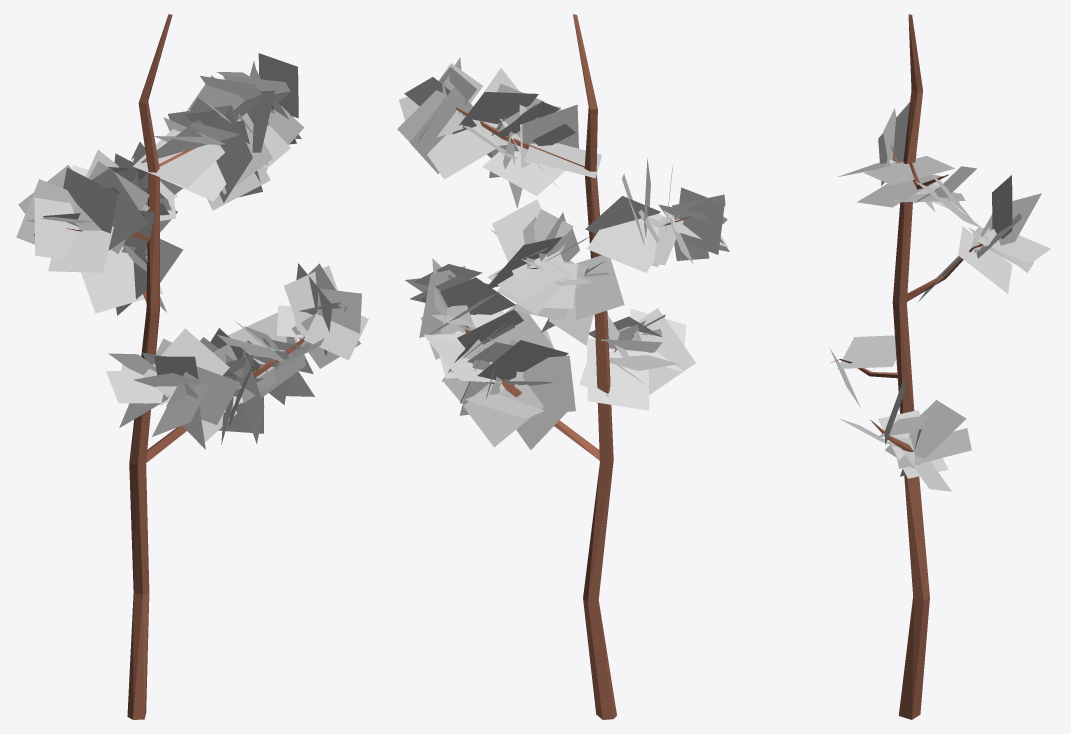
The model's file is bush-stick-test.glb.
3 views of the same model, side by side, from view 1: azimuth 30°, elevation 25°; view 2: azimuth 150°, elevation 25°; view 3: azimuth 270°, elevation 25° (orthographic). The views are drawn at different scales.
Parts seen in each view (by area): view 1: leavesStick.001, woodStick.001; view 2: leavesStick.001, woodStick.001; view 3: leavesStick.001, woodStick.001.
Part boxes in pixels (left/top/right/bottom): leavesStick.001: left=16, top=53, right=368, bottom=449; woodStick.001: left=66, top=14, right=304, bottom=719; leavesStick.001: left=397, top=57, right=729, bottom=449; woodStick.001: left=443, top=14, right=691, bottom=719; leavesStick.001: left=829, top=102, right=1050, bottom=491; woodStick.001: left=831, top=14, right=982, bottom=719.
Size of the model in its own units: 2.06 by 4.1 by 1.49.
